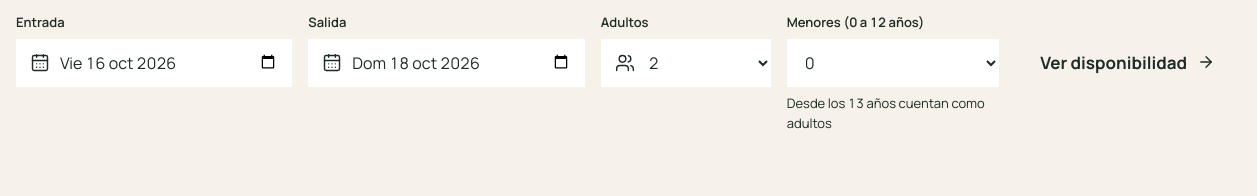
Test: <BuscadorEstadia> web › más personas que la capacidad: error junto al campo, con aria-describedby, y no busca
Select "2" in the dropdown labelled "Adultos" at (686, 62), box [601,38,771,86]
Select "2" in the dropdown labelled "Menores (0 a 12 años)" at (893, 62), box [787,38,999,86]
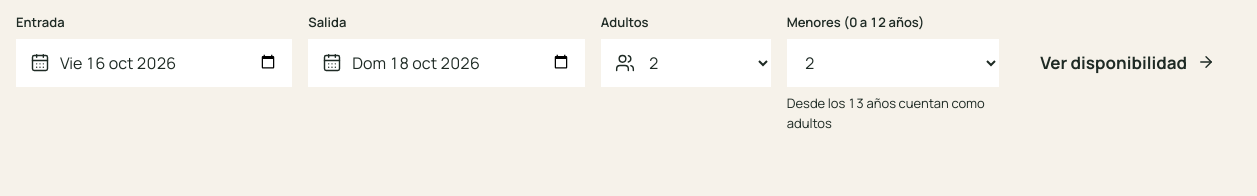
Click the button "Ver disponibilidad" at (1128, 62), box [1015,38,1240,86]
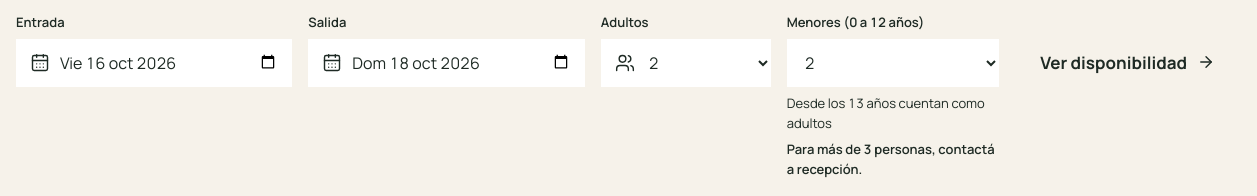
Result: the text "Para más de 3 personas, contactá a recepción." is shown at [787,139,999,179]
